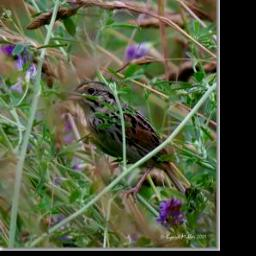Sparrow: (67, 80, 187, 206)
